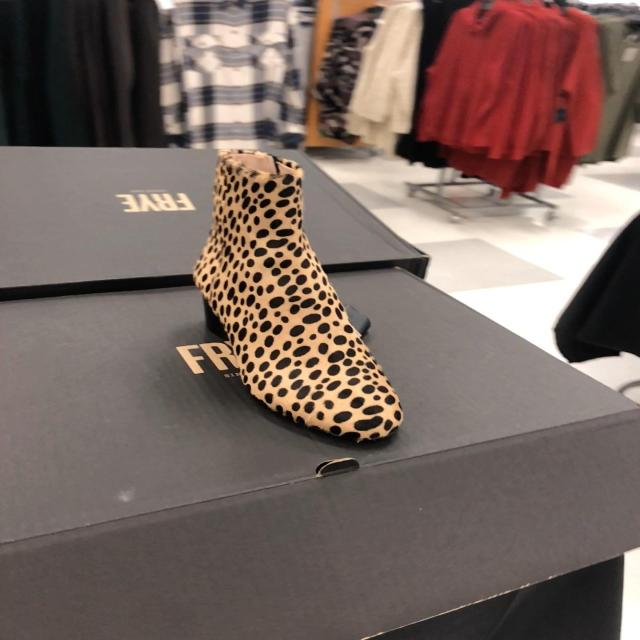shoe: (193, 150, 405, 446)
